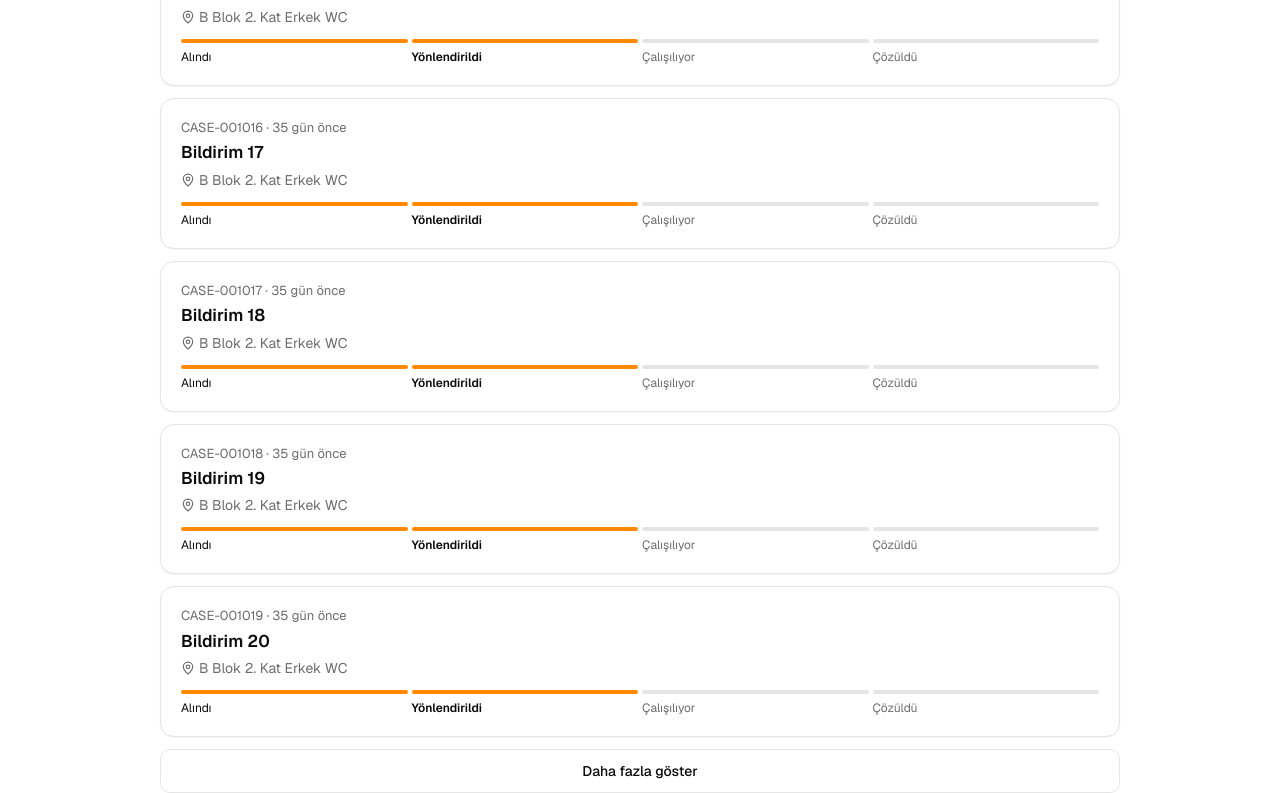
Scenario: MyCasesList › loads the next page with Daha fazla göster
(page scrolled)
Check: the link that starts with "CASE-001019 ·" is shown, box [160,586,1120,737]
Click the button "Daha fazla göster" at (640, 771), box [160,749,1120,792]
(page scrolled)
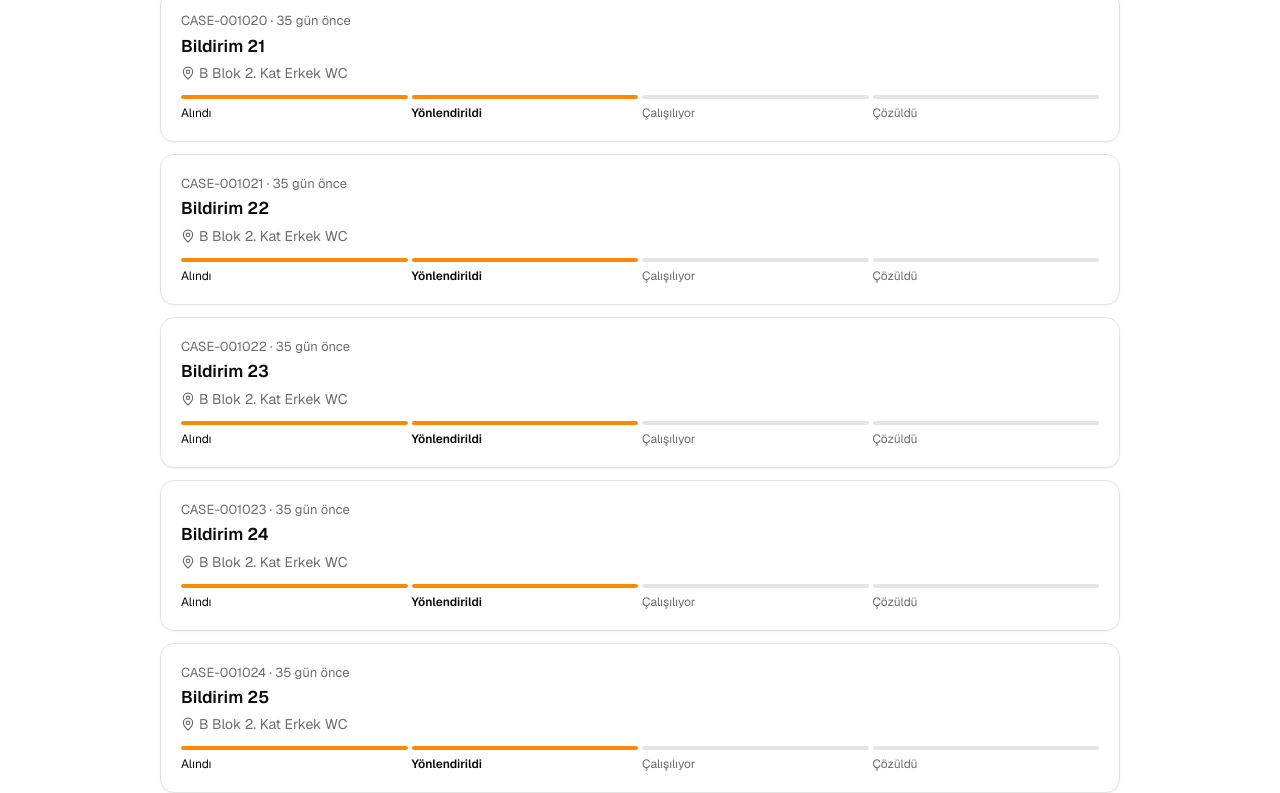
Check: the link that starts with "CASE-001024 ·" is shown, box [160,643,1120,792]
Check: the button "Daha fazla göster" is gone
